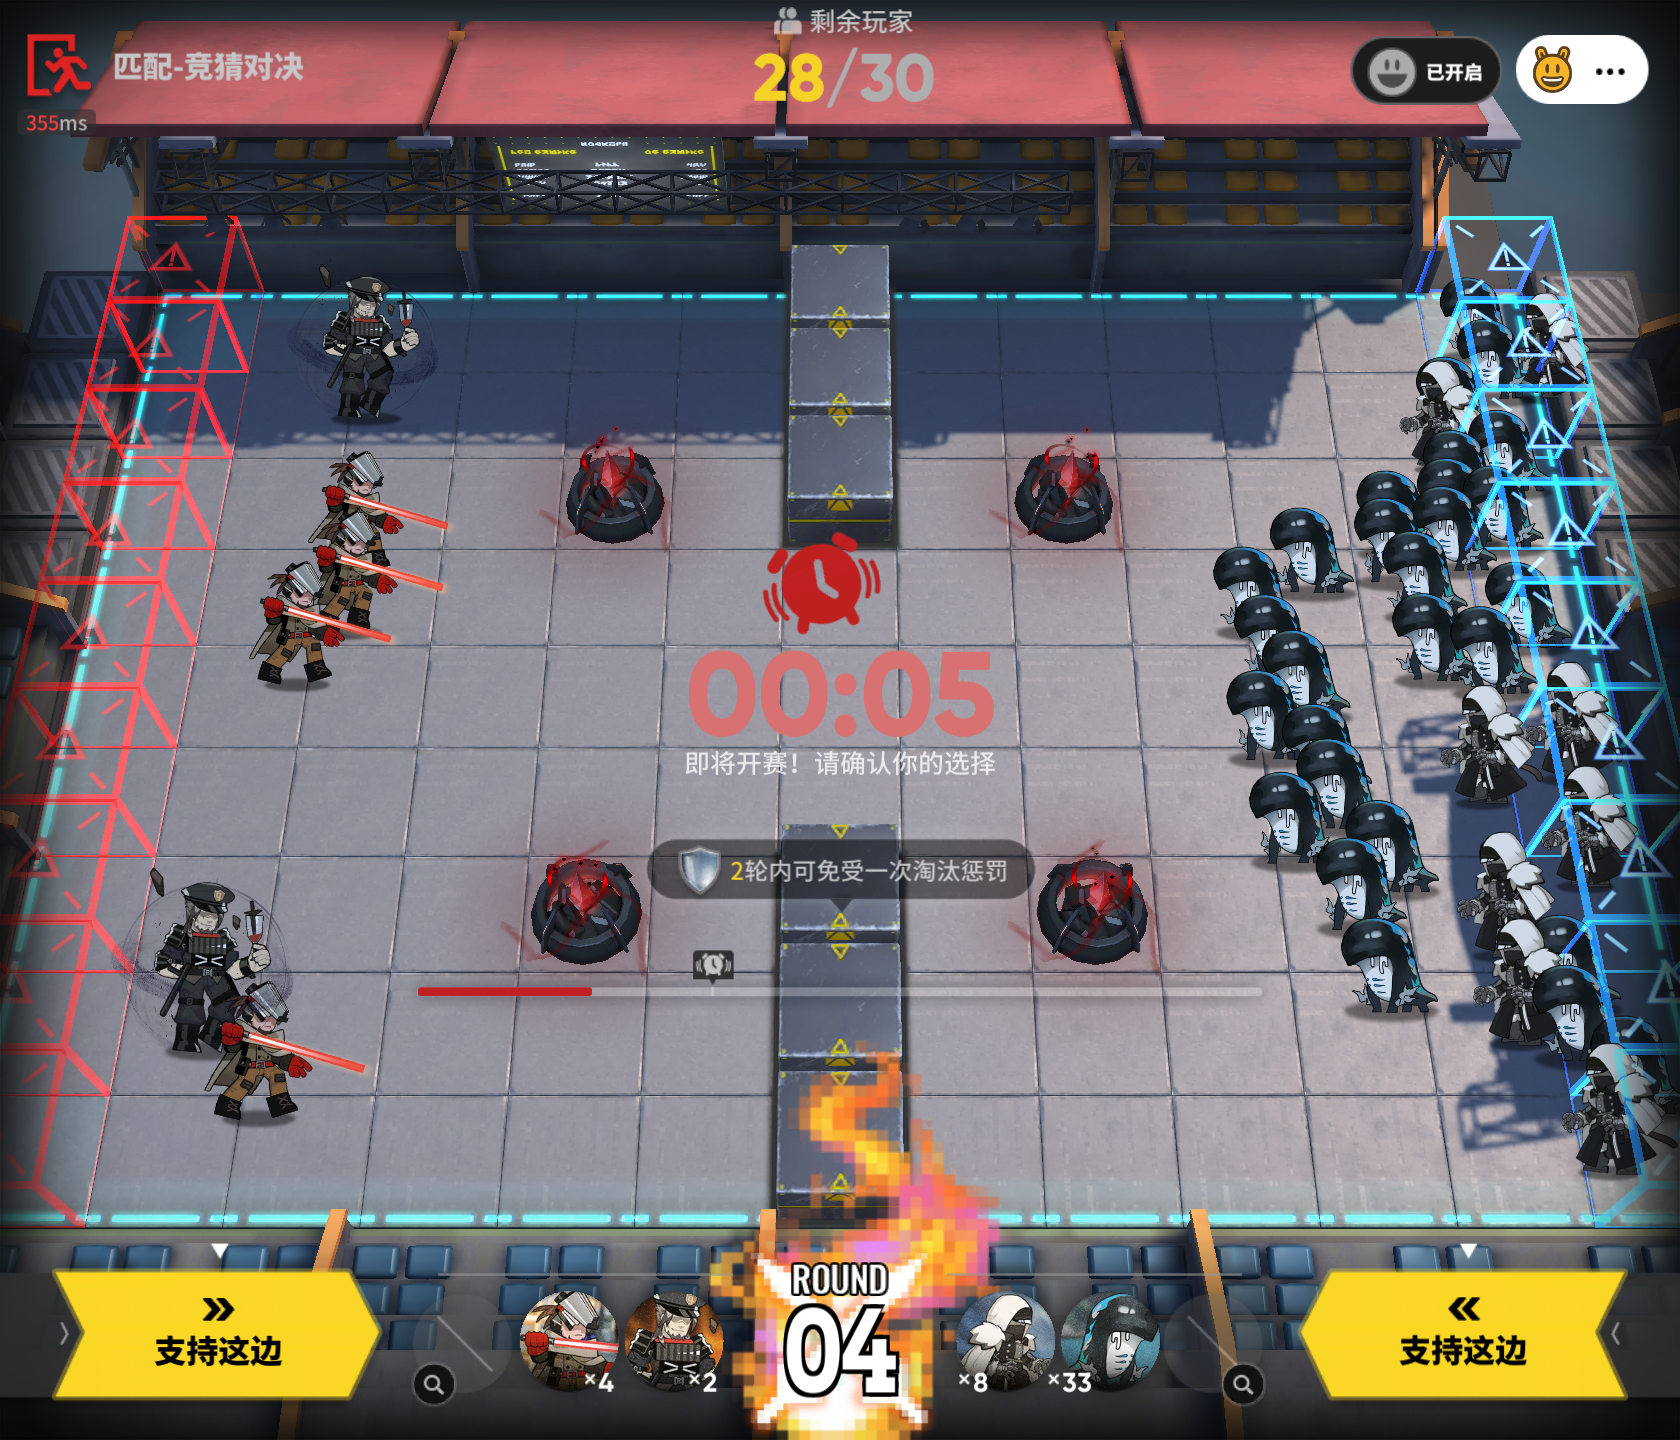冰手术师: (1569, 1034, 1669, 1179), (1460, 826, 1577, 944), (1526, 653, 1633, 781), (1559, 763, 1649, 893), (951, 1290, 1063, 1394), (1481, 914, 1574, 1037), (1453, 686, 1540, 804), (1516, 289, 1601, 394), (1404, 361, 1499, 453)
弧光武士: (201, 977, 377, 1127), (254, 564, 400, 691), (307, 506, 446, 629), (323, 450, 460, 564), (516, 1286, 626, 1389)
杰斯顿·威廉姆斯: (141, 884, 277, 1063), (316, 274, 431, 440), (626, 1284, 729, 1399)
清醒的墨魉: (1521, 117, 1680, 663), (1340, 919, 1437, 1014), (1343, 800, 1439, 893), (1314, 837, 1406, 931), (1536, 913, 1624, 1001), (1449, 606, 1534, 694), (1079, 1294, 1159, 1389), (1530, 966, 1610, 1060), (1259, 630, 1350, 711), (1600, 1014, 1680, 1107), (1269, 507, 1353, 593), (1484, 561, 1571, 644), (1294, 739, 1371, 829), (1249, 771, 1324, 861), (1380, 531, 1463, 611), (1464, 464, 1543, 547), (1226, 670, 1294, 759), (1390, 593, 1457, 680), (1211, 546, 1281, 626), (1231, 594, 1300, 670), (1414, 356, 1486, 427), (1353, 499, 1414, 581), (1411, 487, 1474, 566), (1466, 407, 1534, 479), (1453, 317, 1513, 387), (1279, 704, 1350, 759), (1419, 457, 1481, 519), (1419, 429, 1483, 473), (1439, 277, 1499, 321), (1354, 469, 1416, 511), (1041, 880, 1680, 883)
源石祭坛: (1034, 851, 1149, 966), (529, 853, 641, 966), (563, 427, 664, 544), (1013, 439, 1113, 544)
阻挡物: (779, 1060, 913, 1207), (781, 407, 910, 550), (773, 933, 906, 1063), (770, 821, 910, 939), (784, 236, 904, 331), (784, 320, 899, 413)
